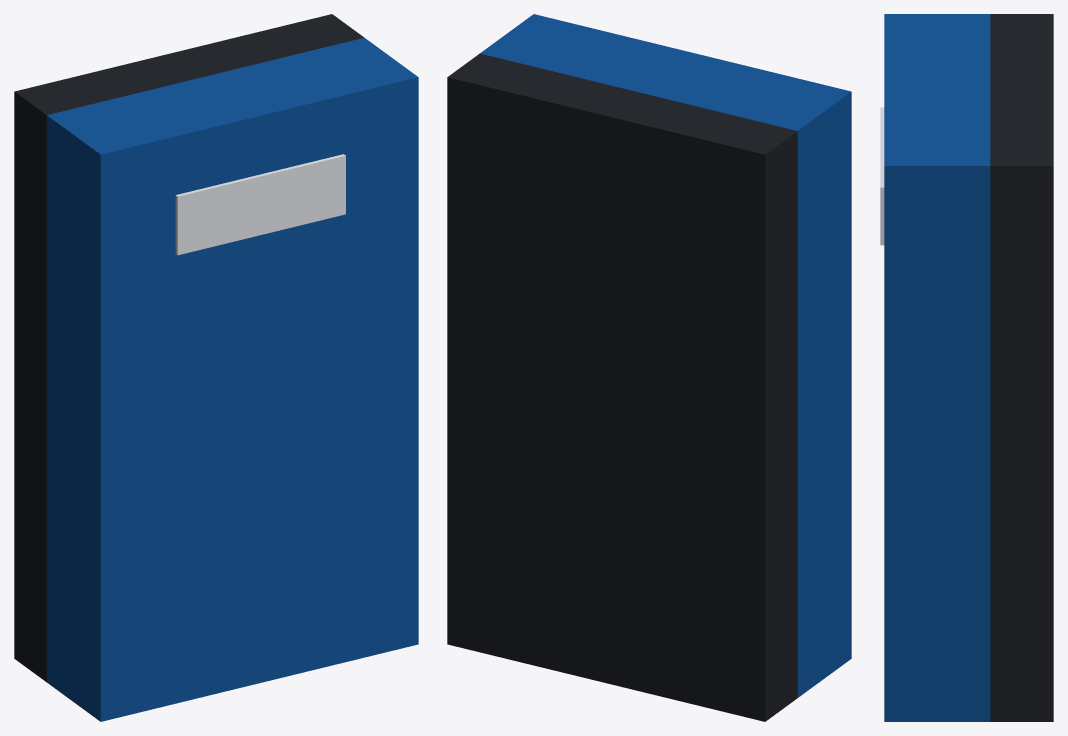
The model's file is victron_lynx_distributor.far.glb.
3 views of the same model, side by side, from view 1: azimuth 30°, elevation 25°; view 2: azimuth 150°, elevation 25°; view 3: azimuth 270°, elevation 25° (orthographic). The views are drawn at different scales.
Parts seen in each view (by area): view 1: cover, victron_lynx_distributor; view 2: victron_lynx_distributor, cover; view 3: cover, victron_lynx_distributor.
Part boxes in pixels (x1,y1,x2,y2): cover: [46, 37, 418, 721]; victron_lynx_distributor: [14, 14, 363, 681]; victron_lynx_distributor: [447, 53, 797, 721]; cover: [480, 14, 851, 697]; cover: [880, 14, 990, 721]; victron_lynx_distributor: [990, 14, 1053, 721].
Bounding box in the file's own units: 0.17 × 0.29 × 0.082.
